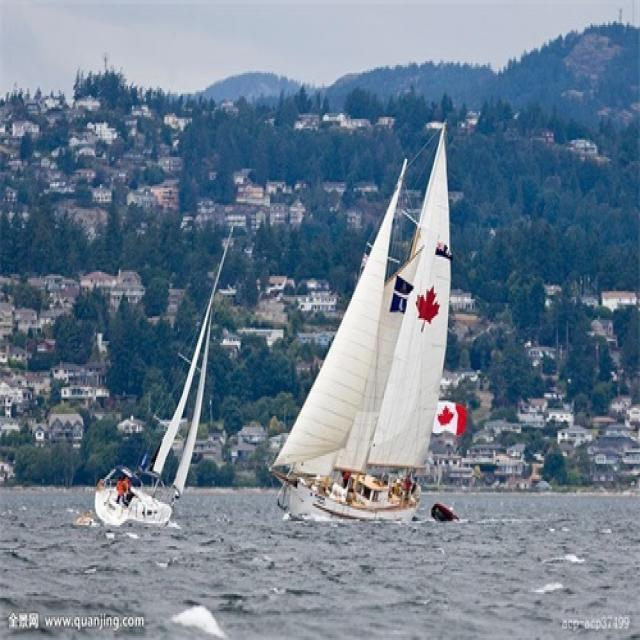Ship: (274, 115, 459, 535), (65, 222, 229, 521)
